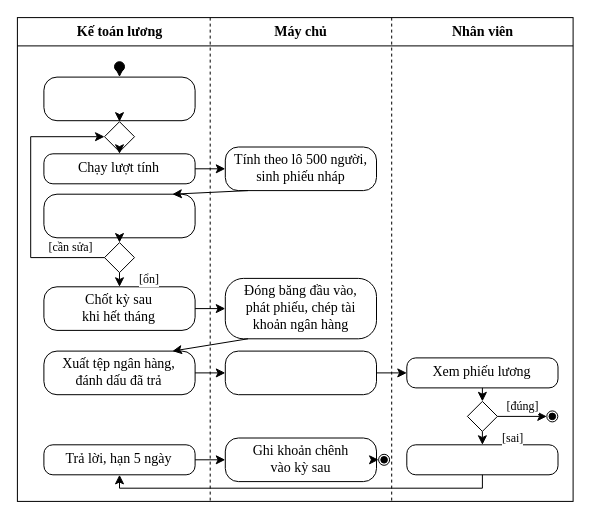
Image size: 592x520. Some labels were removed from this diagram. The centre of each missing label's shape, as x and y in pixels:
"Gửi khiếu nại" goes at (x=482, y=459).
"Gửi phiếu, báo cho từng người" goes at (x=300, y=372).
"Mở kỳ cho một pháp nhân" goes at (x=119, y=98).
"Soát phiếu và danh mục cần xử lý" goes at (x=119, y=215).
